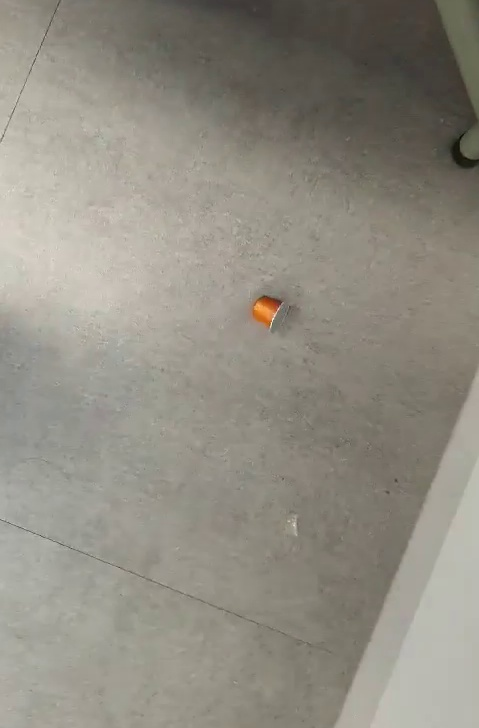capsule_5: (252, 290, 294, 335)
